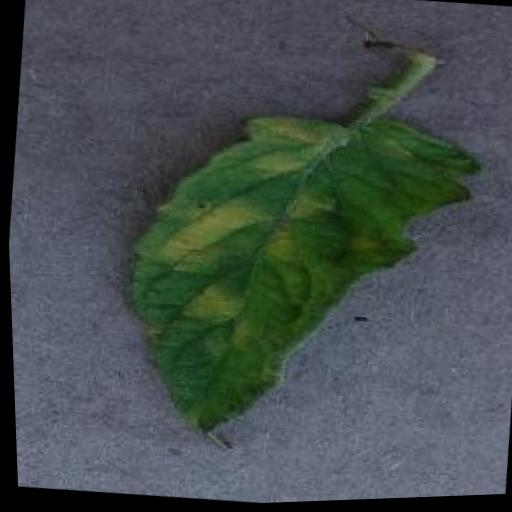Leaf Mold: (103, 96, 489, 483)
